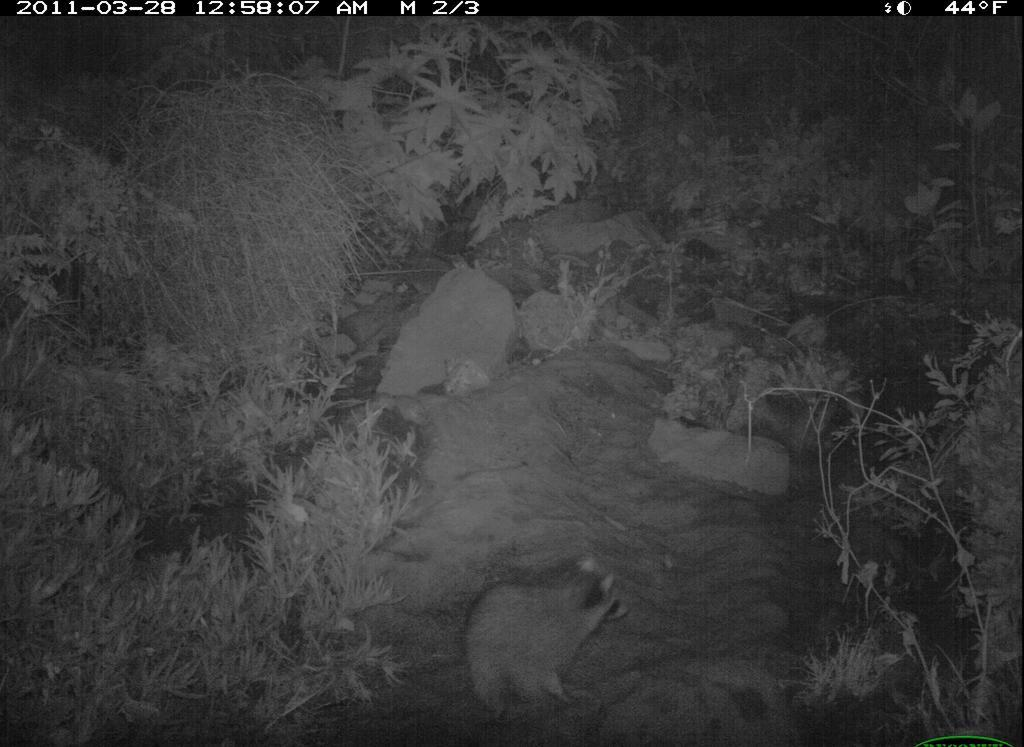raccoon: (418, 525, 648, 689)
